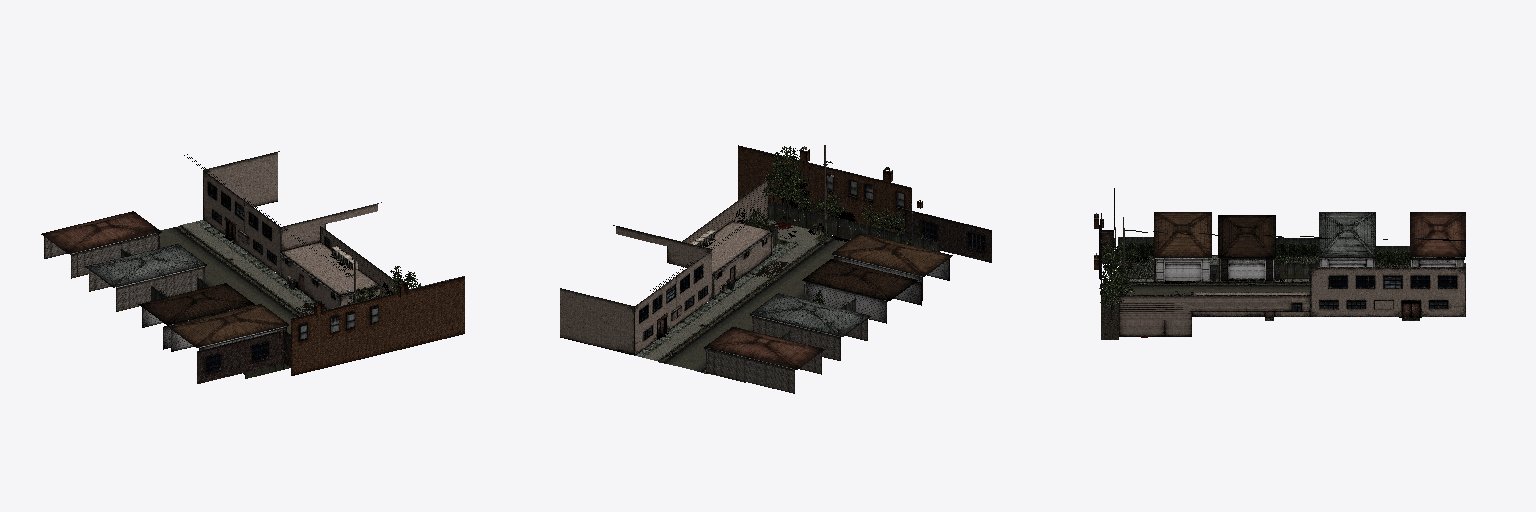
3 renders of one model, left to right at view 1: azimuth 30°, elevation 25°; view 2: azimuth 150°, elevation 25°; view 3: azimuth 270°, elevation 25°, orthographic.
Size of the model in its own units: 46.43 by 15.15 by 52.94.
5 materials, 5 textured.